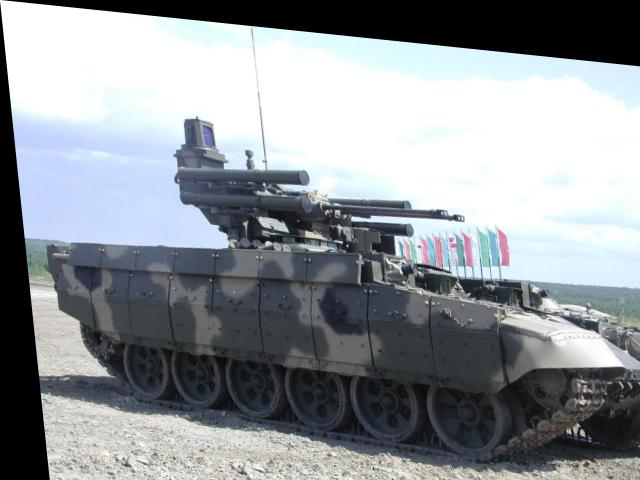tank: (33, 145, 640, 473)
